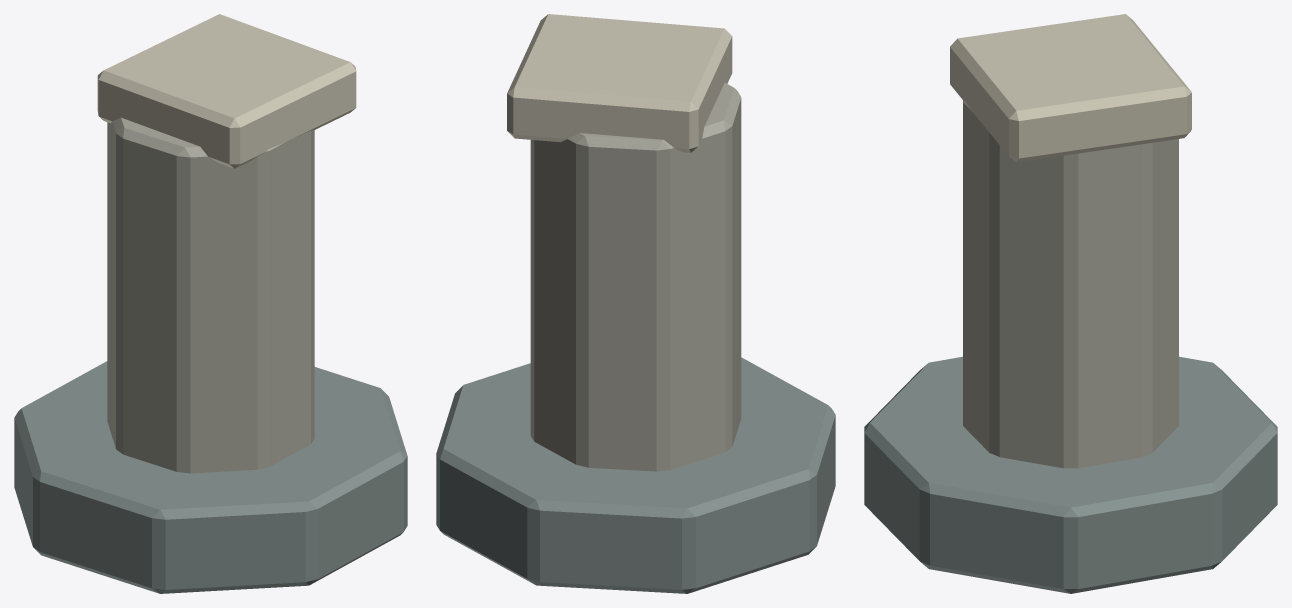
File: broken_column.glb
3 renders of one model, left to right at view 1: azimuth 30°, elevation 25°; view 2: azimuth 150°, elevation 25°; view 3: azimuth 270°, elevation 25°, orthographic. The views are drawn at different scales.
Visible parts, largest first — view 1: TV_broken_column; view 2: TV_broken_column; view 3: TV_broken_column.
Part boxes in pixels (x1=…): TV_broken_column: x1=14, y1=14, x2=407, y2=593; TV_broken_column: x1=436, y1=14, x2=835, y2=593; TV_broken_column: x1=864, y1=14, x2=1277, y2=593.
Bounding box in the file's own units: 1.3 × 1.58 × 1.3.
